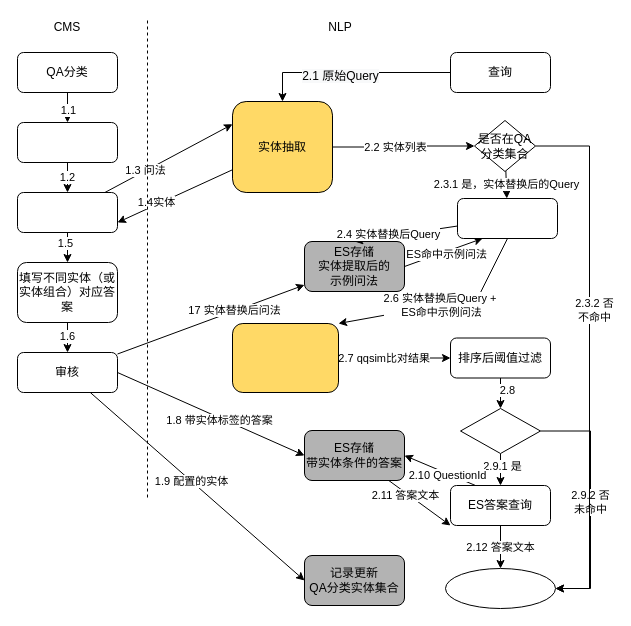
This 631x626 diagram has some shape labels left out. The shapes that lost their labels are listed below. From the top down, each one's centre as x and y in pixels, then its label:
At pixel 67 142: "QA分类 加实体标签".
At pixel 67 212: "列举该分类的问法".
At pixel 507 218: "ES查询".
At pixel 285 357: "QQSim比对".
At pixel 500 431: "是否匹配".
At pixel 500 588: "结束".
